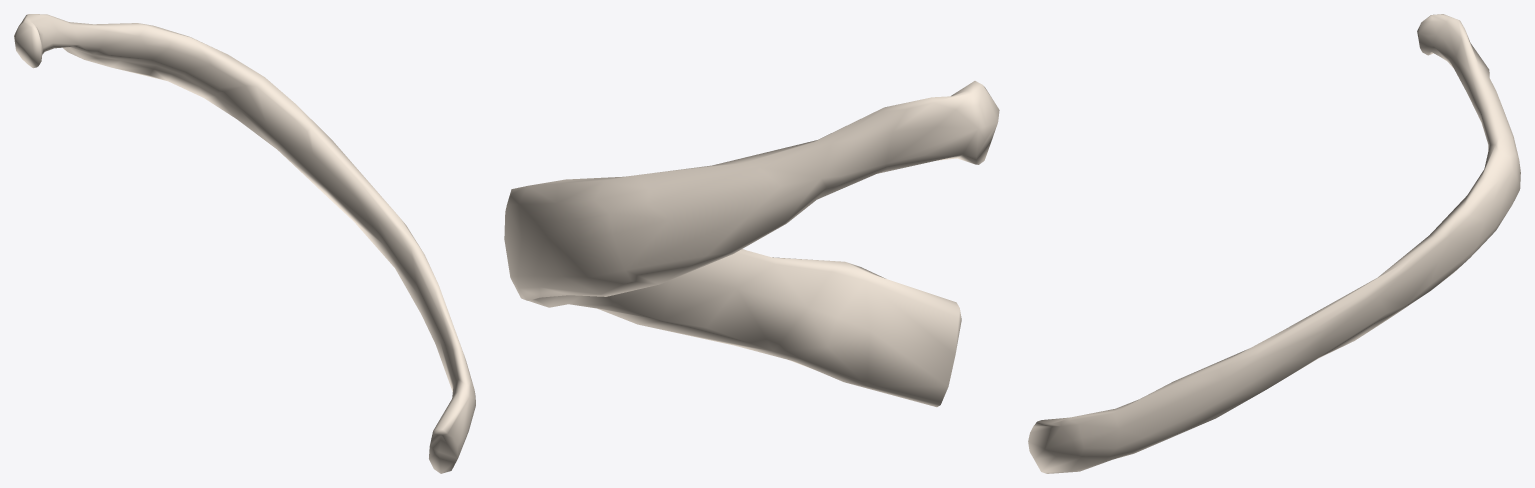
Rendered from left_rib_7.glb.
3 renders of one model, left to right at view 1: azimuth 30°, elevation 25°; view 2: azimuth 150°, elevation 25°; view 3: azimuth 270°, elevation 25°, orthographic. The views are drawn at different scales.
Parts seen in each view (by area): view 1: Rib (7th).r; view 2: Rib (7th).r; view 3: Rib (7th).r.
Boxes of the visible parts, box(x1,y1,x2,y2) form: Rib (7th).r: box(14, 14, 475, 473); Rib (7th).r: box(504, 81, 999, 407); Rib (7th).r: box(1028, 14, 1520, 473).
Bounding box in the file's own units: 0.1262 × 0.1438 × 0.181.
